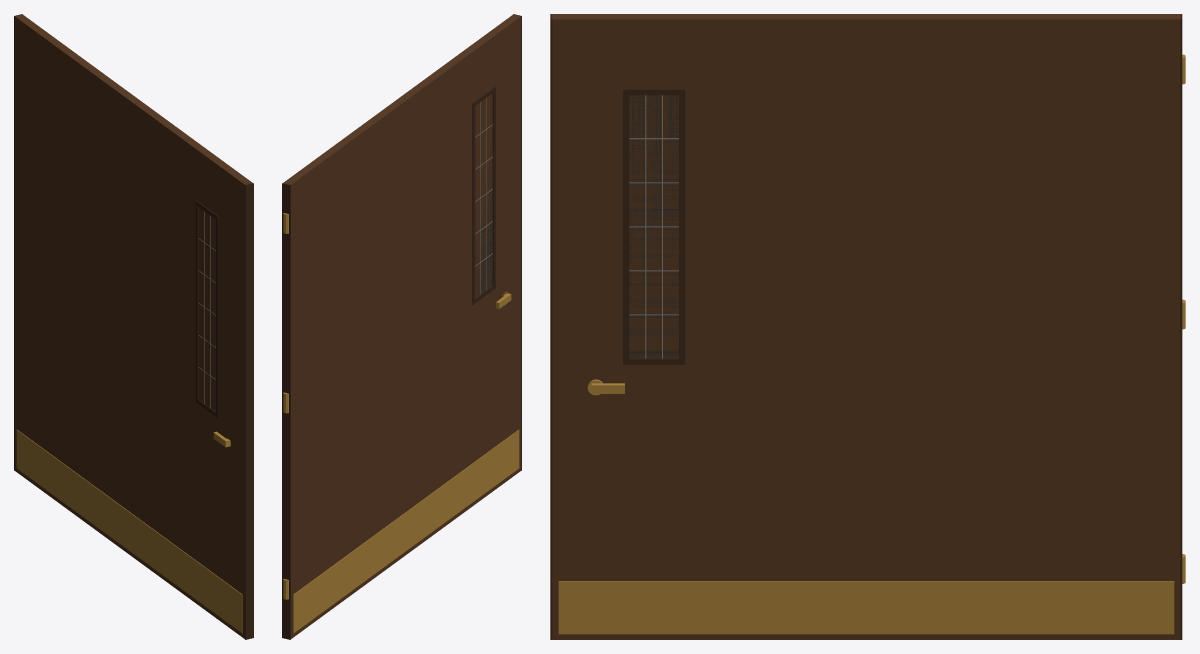
File: SM_80s_RoomDoor_304.glb
3 renders of one model, left to right at view 1: azimuth 30°, elevation 25°; view 2: azimuth 150°, elevation 25°; view 3: azimuth 270°, elevation 25°, orthographic. The views are drawn at different scales.
Parts seen in each view (by area): view 1: SM_80s_RoomDoor_304; view 2: SM_80s_RoomDoor_304; view 3: SM_80s_RoomDoor_304.
Boxes of the visible parts, box(x1,y1,x2,y2) form: SM_80s_RoomDoor_304: box(14, 14, 253, 639); SM_80s_RoomDoor_304: box(282, 14, 521, 639); SM_80s_RoomDoor_304: box(550, 14, 1185, 639).
Bounding box in the file's own units: 0.134 × 3.29 × 3.06.
